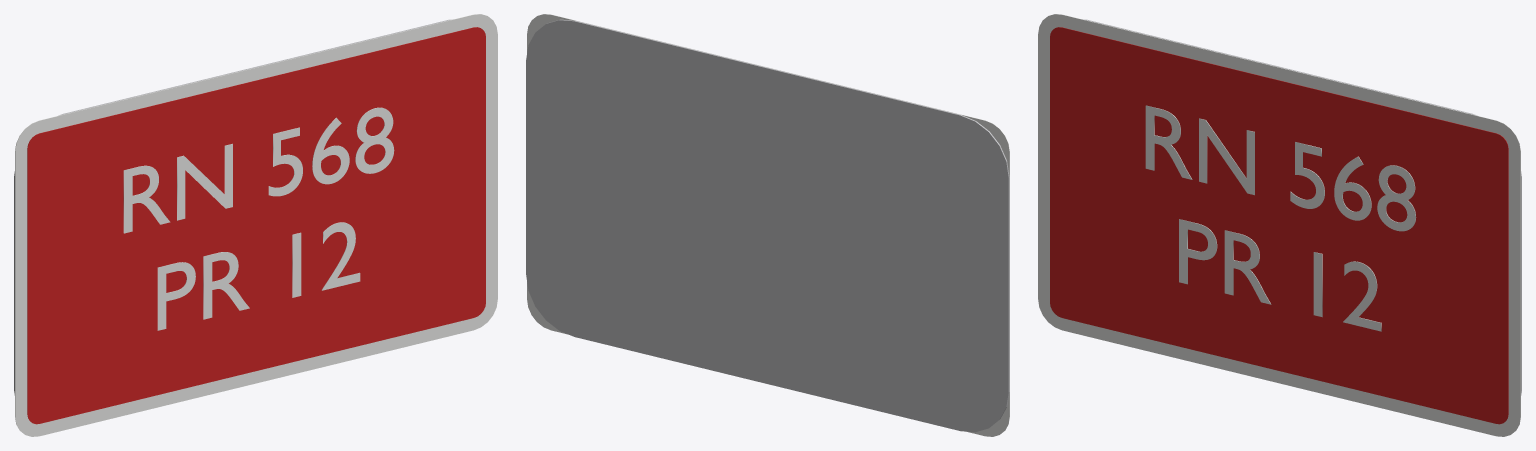
3 views of the same model, side by side, from view 1: azimuth 30°, elevation 25°; view 2: azimuth 150°, elevation 25°; view 3: azimuth 330°, elevation 25° (orthographic).
Visible parts, largest first — view 1: E52_fond01, E52_cadre00, E52_txt02, E52_txt03, E52_dos; view 2: E52_dos, E52_cadre00; view 3: E52_fond01, E52_cadre00, E52_txt02, E52_txt03, E52_dos.
Boxes of the visible parts, bbox=[...] form: E52_fond01: bbox=[27, 27, 485, 424]; E52_cadre00: bbox=[15, 14, 497, 436]; E52_txt02: bbox=[123, 107, 394, 233]; E52_txt03: bbox=[157, 222, 360, 330]; E52_dos: bbox=[14, 19, 452, 395]; E52_dos: bbox=[526, 19, 1009, 432]; E52_cadre00: bbox=[527, 14, 1009, 436]; E52_fond01: bbox=[1050, 27, 1508, 424]; E52_cadre00: bbox=[1038, 14, 1520, 436]; E52_txt02: bbox=[1145, 105, 1416, 231]; E52_txt03: bbox=[1179, 219, 1381, 331]; E52_dos: bbox=[1083, 19, 1521, 395].
Bounding box in the file's own units: 0.4 × 0.25 × 0.0029.
